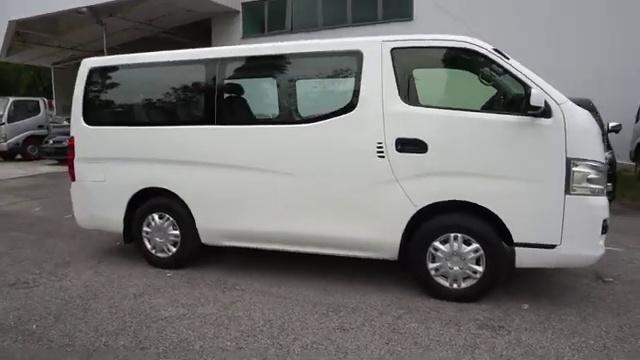Van: (69, 35, 614, 296)
